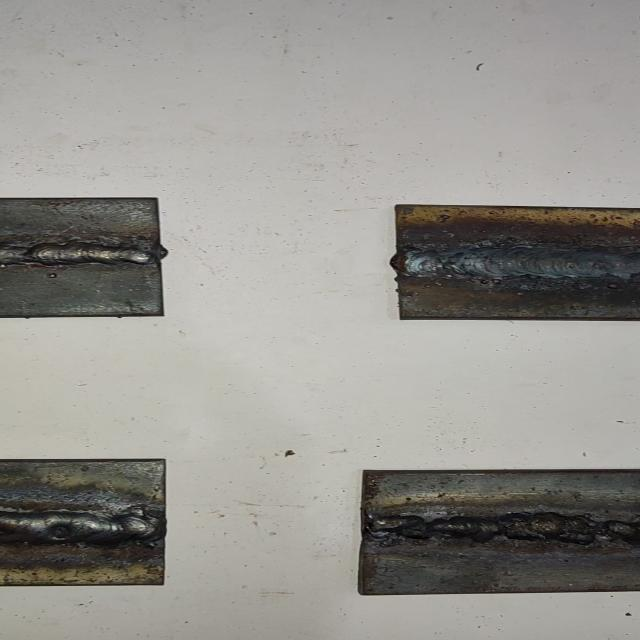Bad Weld: (366, 514, 640, 548), (0, 510, 165, 549)
Defect: (371, 512, 636, 549), (44, 504, 166, 554)
Good Weld: (402, 247, 640, 279), (0, 243, 156, 269)
